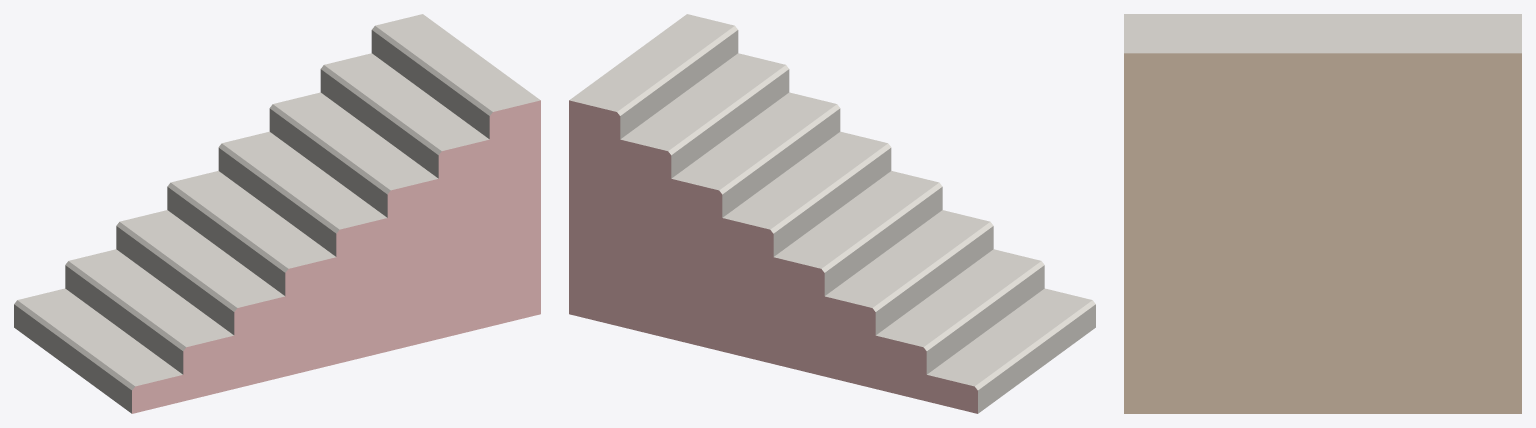
The model's file is Tiered_Walkway_Steps_Straight_1x2.glb.
3 renders of one model, left to right at view 1: azimuth 30°, elevation 25°; view 2: azimuth 150°, elevation 25°; view 3: azimuth 270°, elevation 25°, orthographic. The views are drawn at different scales.
Visible parts, largest first — view 1: Tiered_Walkway_Steps_Straight_1x2; view 2: Tiered_Walkway_Steps_Straight_1x2; view 3: Tiered_Walkway_Steps_Straight_1x2.
Boxes of the visible parts, bbox=[...] form: Tiered_Walkway_Steps_Straight_1x2: bbox=[14, 14, 540, 413]; Tiered_Walkway_Steps_Straight_1x2: bbox=[569, 14, 1095, 413]; Tiered_Walkway_Steps_Straight_1x2: bbox=[1124, 14, 1521, 413].
Size of the model in its own units: 200 by 100 by 100.
